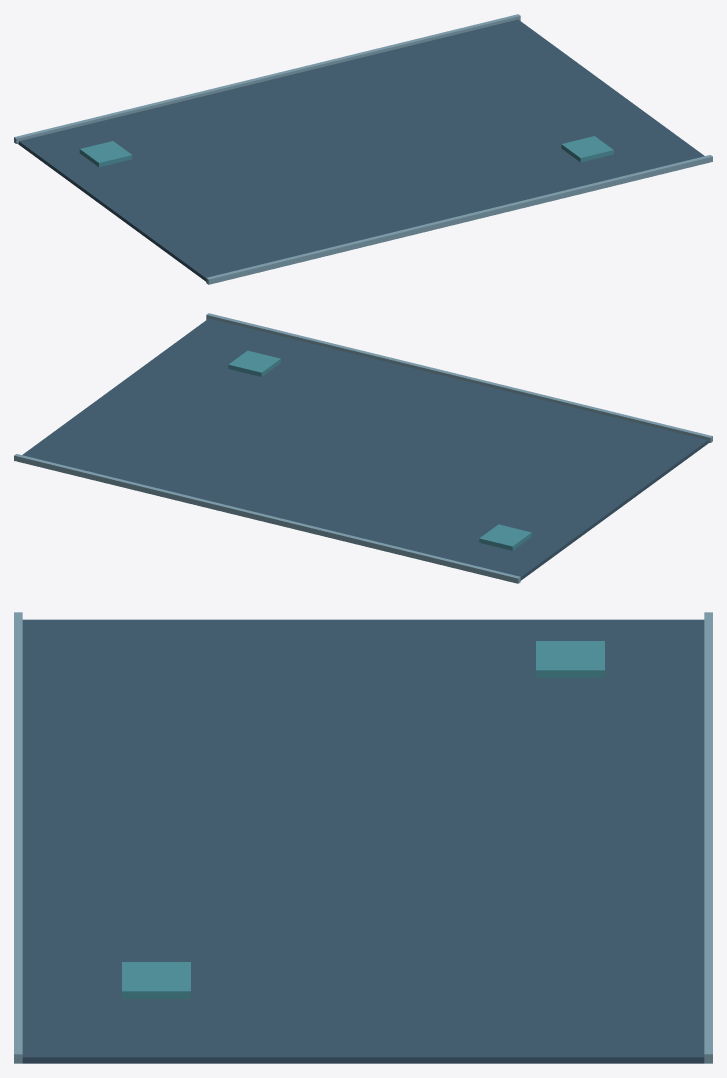
File: factory.glb
3 renders of one model, top to bottom at view 1: azimuth 30°, elevation 25°; view 2: azimuth 150°, elevation 25°; view 3: azimuth 270°, elevation 25°, orthographic. The views are drawn at different scales.
Parts seen in each view (by area): view 1: FLOOR, SOUTH_BORDER, NORTH_BORDER, STATION_A, STATION_B; view 2: FLOOR, NORTH_BORDER, SOUTH_BORDER, STATION_A, STATION_B; view 3: FLOOR, NORTH_BORDER, SOUTH_BORDER, STATION_A, STATION_B.
Boxes of the visible parts, box(x1,y1,x2,y2) form: FLOOR: box(18, 19, 704, 281); SOUTH_BORDER: box(206, 155, 712, 284); NORTH_BORDER: box(14, 14, 520, 143); STATION_A: box(79, 141, 132, 167); STATION_B: box(561, 136, 613, 162); FLOOR: box(22, 318, 708, 580); NORTH_BORDER: box(14, 454, 520, 583); SOUTH_BORDER: box(206, 313, 712, 442); STATION_A: box(479, 524, 531, 550); STATION_B: box(228, 350, 280, 376); FLOOR: box(22, 619, 704, 1063); NORTH_BORDER: box(704, 612, 712, 1063); SOUTH_BORDER: box(14, 612, 22, 1063); STATION_A: box(536, 641, 604, 677); STATION_B: box(122, 962, 190, 998).
Bounding box in the file's own units: 30.3 × 0.7 × 20.25.
